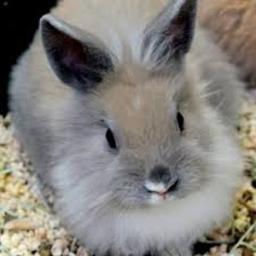rabbit: (9, 0, 246, 255)
